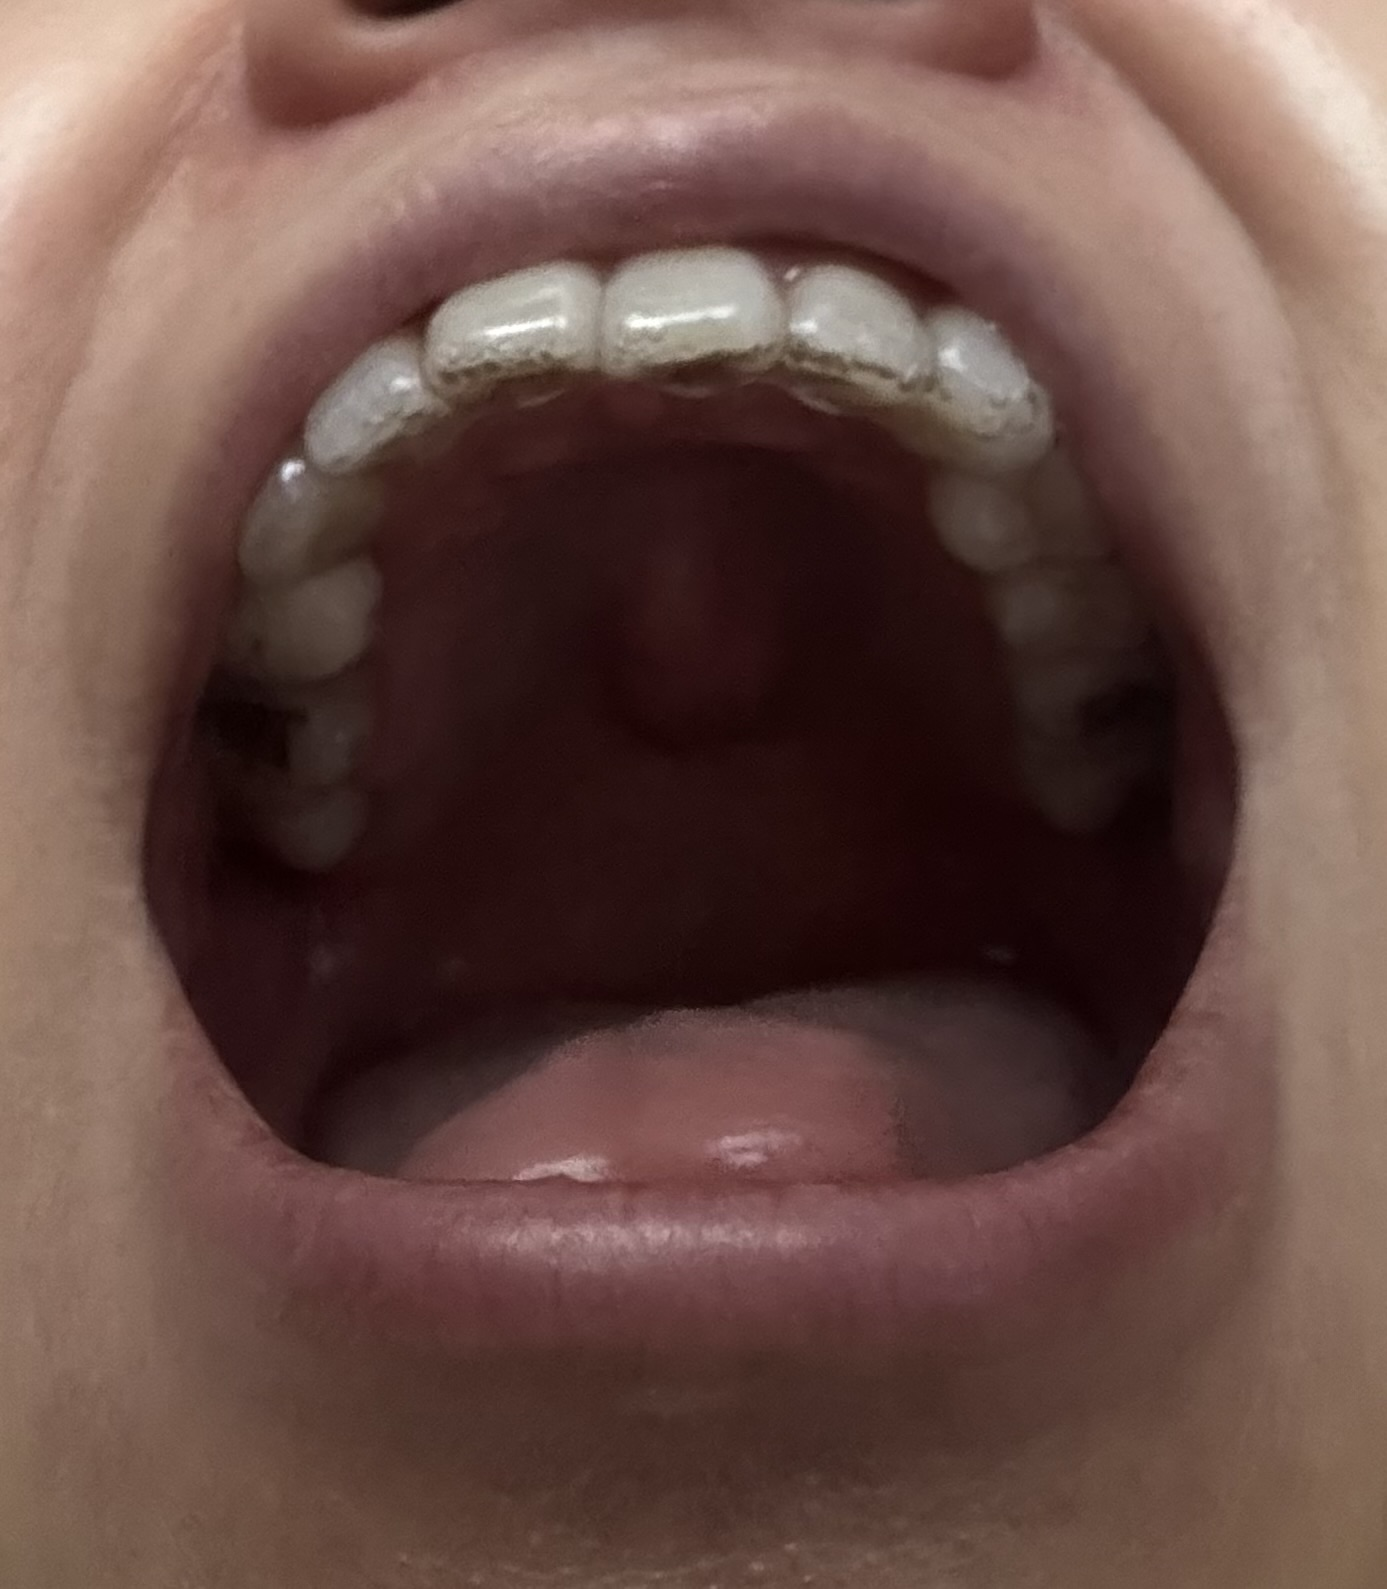teeth: (612, 243, 778, 354), (432, 258, 594, 370), (794, 255, 933, 374), (312, 331, 428, 463), (254, 459, 378, 572), (944, 305, 1043, 443)
